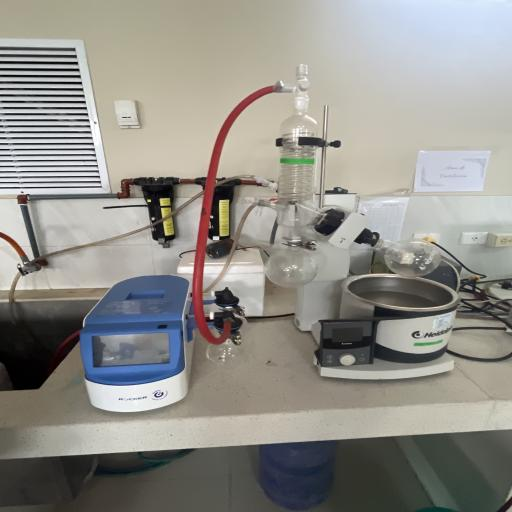Sistema_Rotaevaporacion: (58, 58, 472, 406)
